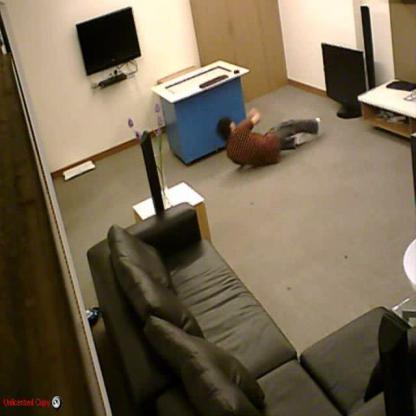Person: (215, 108, 321, 167)
